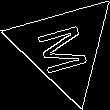M_E: (33, 18, 95, 76)
